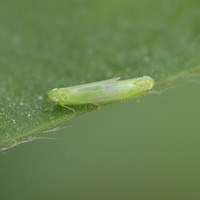insect: (48, 76, 153, 111)
